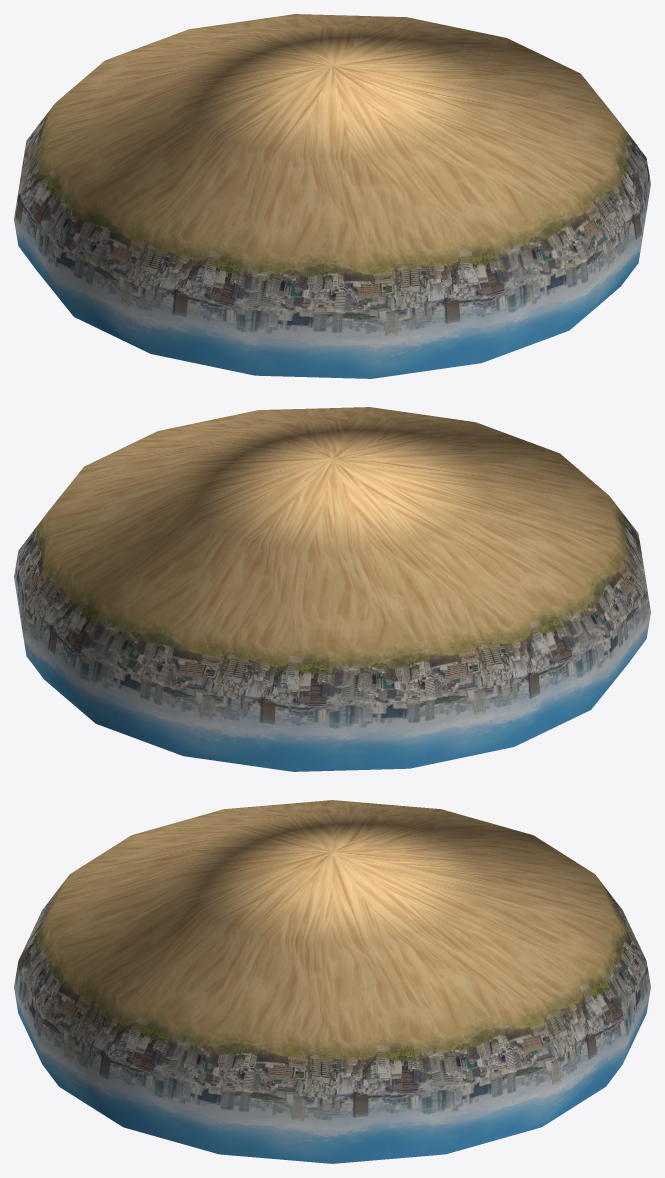
Rendered from Desert.glb.
3 renders of one model, top to bottom at view 1: azimuth 30°, elevation 25°; view 2: azimuth 150°, elevation 25°; view 3: azimuth 270°, elevation 25°, orthographic.
Parts seen in each view (by area): view 1: Desert; view 2: Desert; view 3: Desert.
Part boxes in pixels (left/top/right/bottom): Desert: left=14, top=14, right=650, bottom=378; Desert: left=14, top=407, right=650, bottom=771; Desert: left=14, top=800, right=650, bottom=1163.
Bounding box in the file's own units: 620 × 200 × 620.
2 materials, 2 textured.
